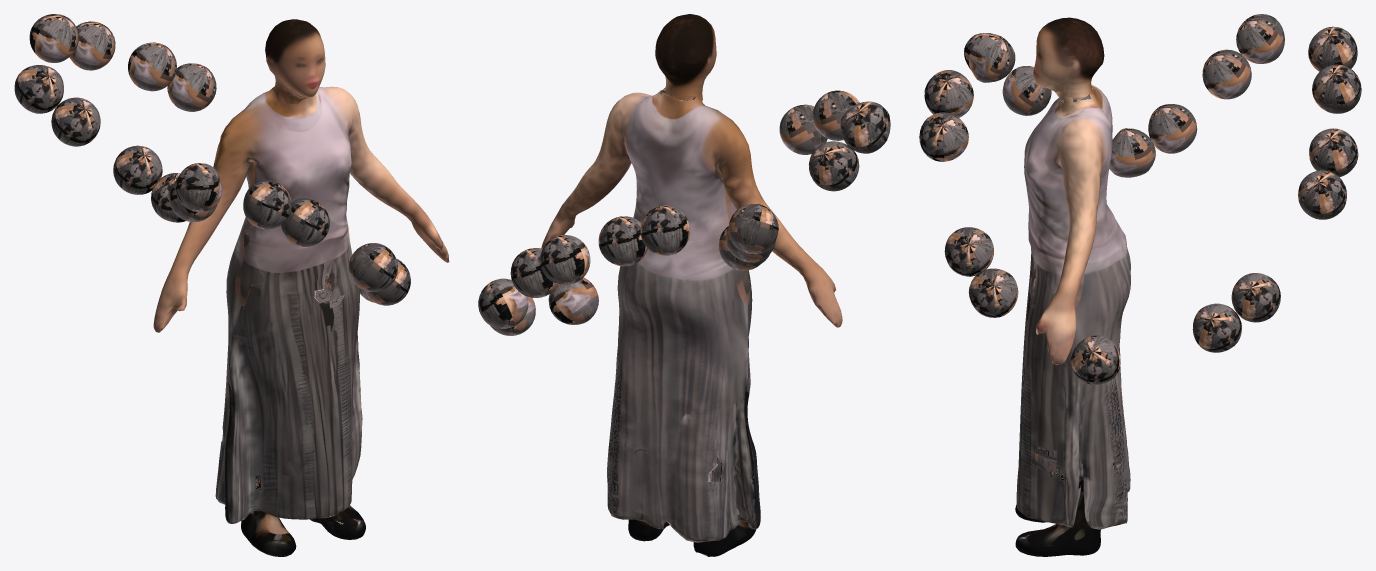
Rendered from me6wstring.glb.
3 views of the same model, side by side, from view 1: azimuth 30°, elevation 25°; view 2: azimuth 150°, elevation 25°; view 3: azimuth 270°, elevation 25° (orthographic). The views are drawn at different scales.
Parts seen in each view (by area): view 1: BézierCircle; view 2: BézierCircle; view 3: BézierCircle.
Part boxes in pixels (x1=…): BézierCircle: x1=14, y1=14, x2=449, y2=556; BézierCircle: x1=478, y1=14, x2=890, y2=556; BézierCircle: x1=919, y1=14, x2=1361, y2=556.
Size of the model in its own units: 1.28 by 1.9 by 1.48.
1 material, 1 textured.
